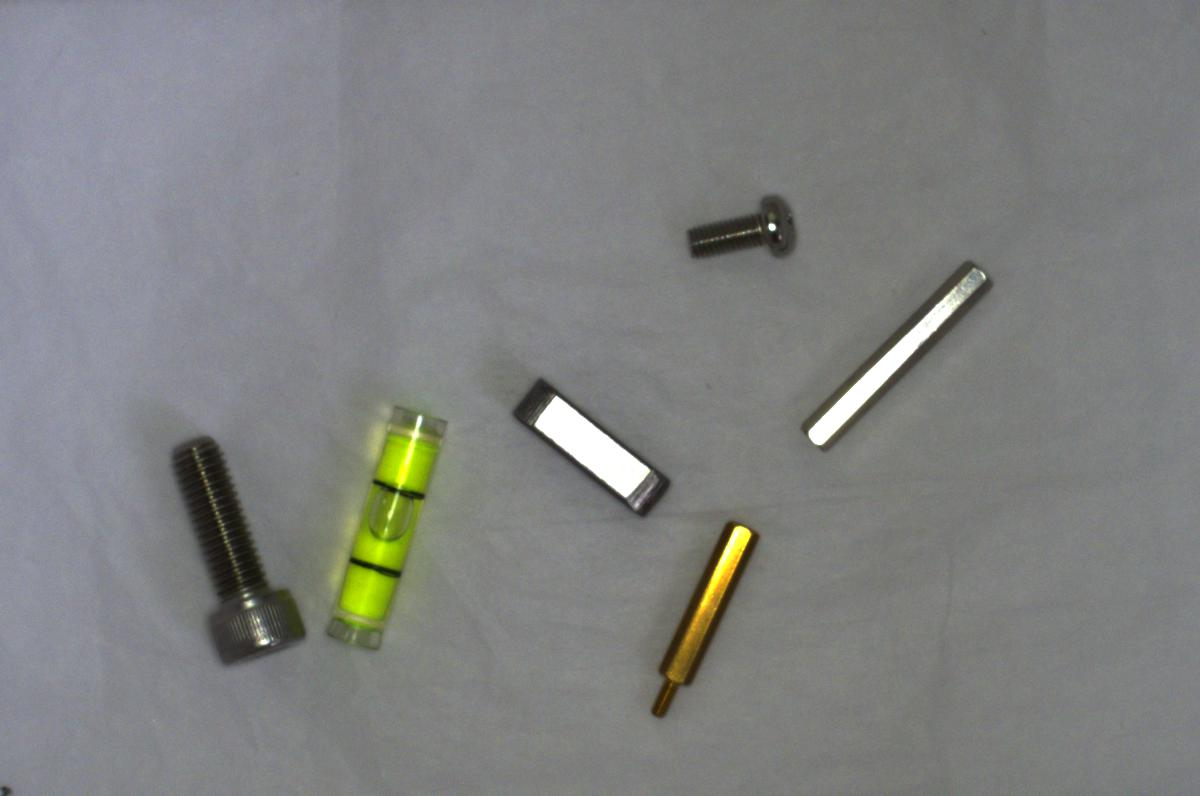Double hexagonal column: (787, 255, 999, 455)
Hexagon pillar: (647, 513, 768, 715)
Hexagon screw: (157, 426, 308, 669)
Horizontal bubble: (328, 402, 438, 652)
Keybar: (506, 376, 671, 516)
Round head screw: (674, 190, 805, 267)
